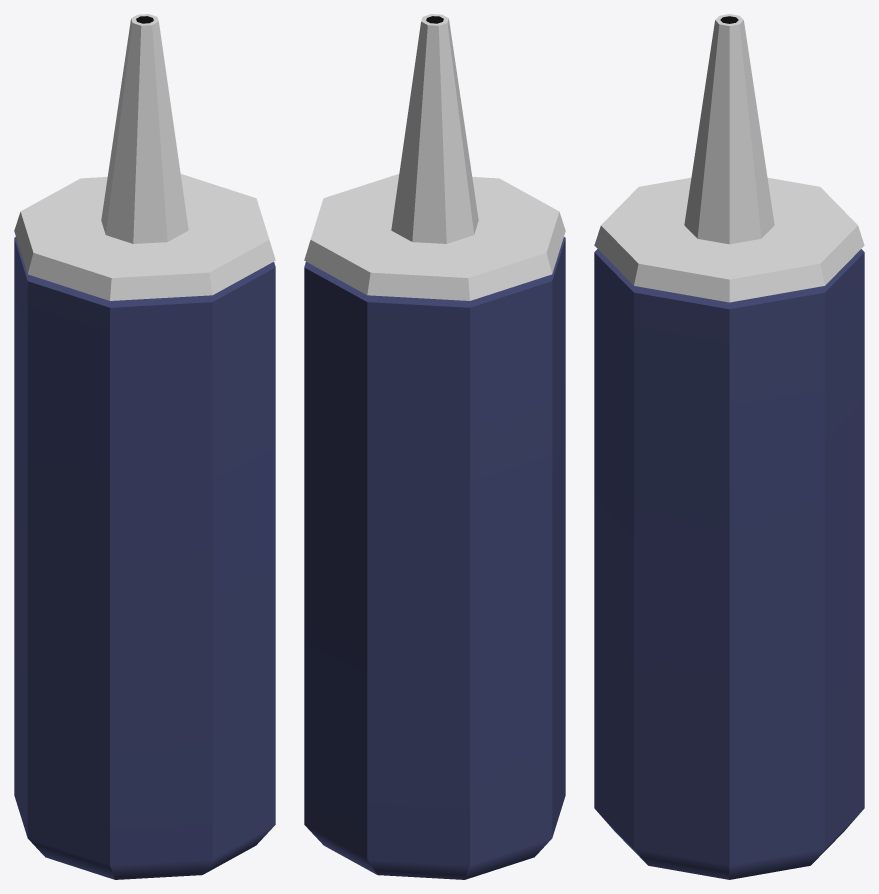
Rendered from SqueezeBottle.fbx.
The picture shows the model from 3 angles, left to right: view 1: azimuth 30°, elevation 25°; view 2: azimuth 150°, elevation 25°; view 3: azimuth 270°, elevation 25°; orthographic projection.
Visible parts, largest first — view 1: SqueezeBottle; view 2: SqueezeBottle; view 3: SqueezeBottle.
Boxes of the visible parts, x1,y1,x2,y2 form: SqueezeBottle: [14, 14, 275, 879]; SqueezeBottle: [304, 14, 565, 879]; SqueezeBottle: [594, 14, 864, 879].
Size of the model in its own units: 11.31 by 37.45 by 11.31.
